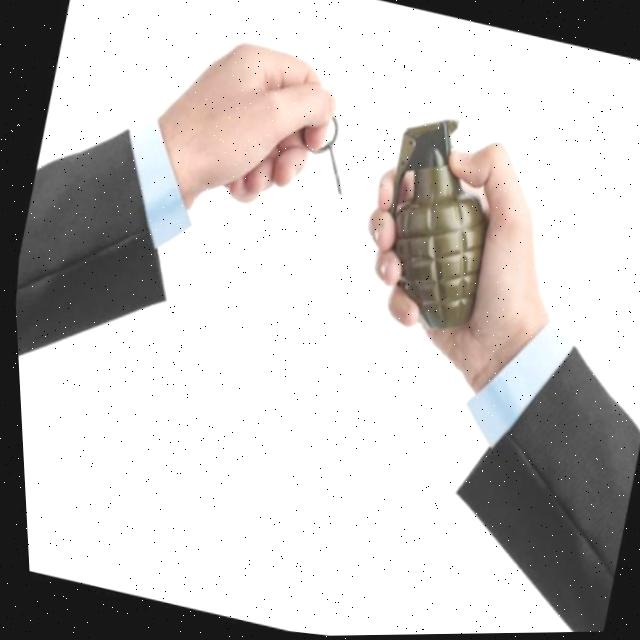grenade: (333, 98, 525, 340)
